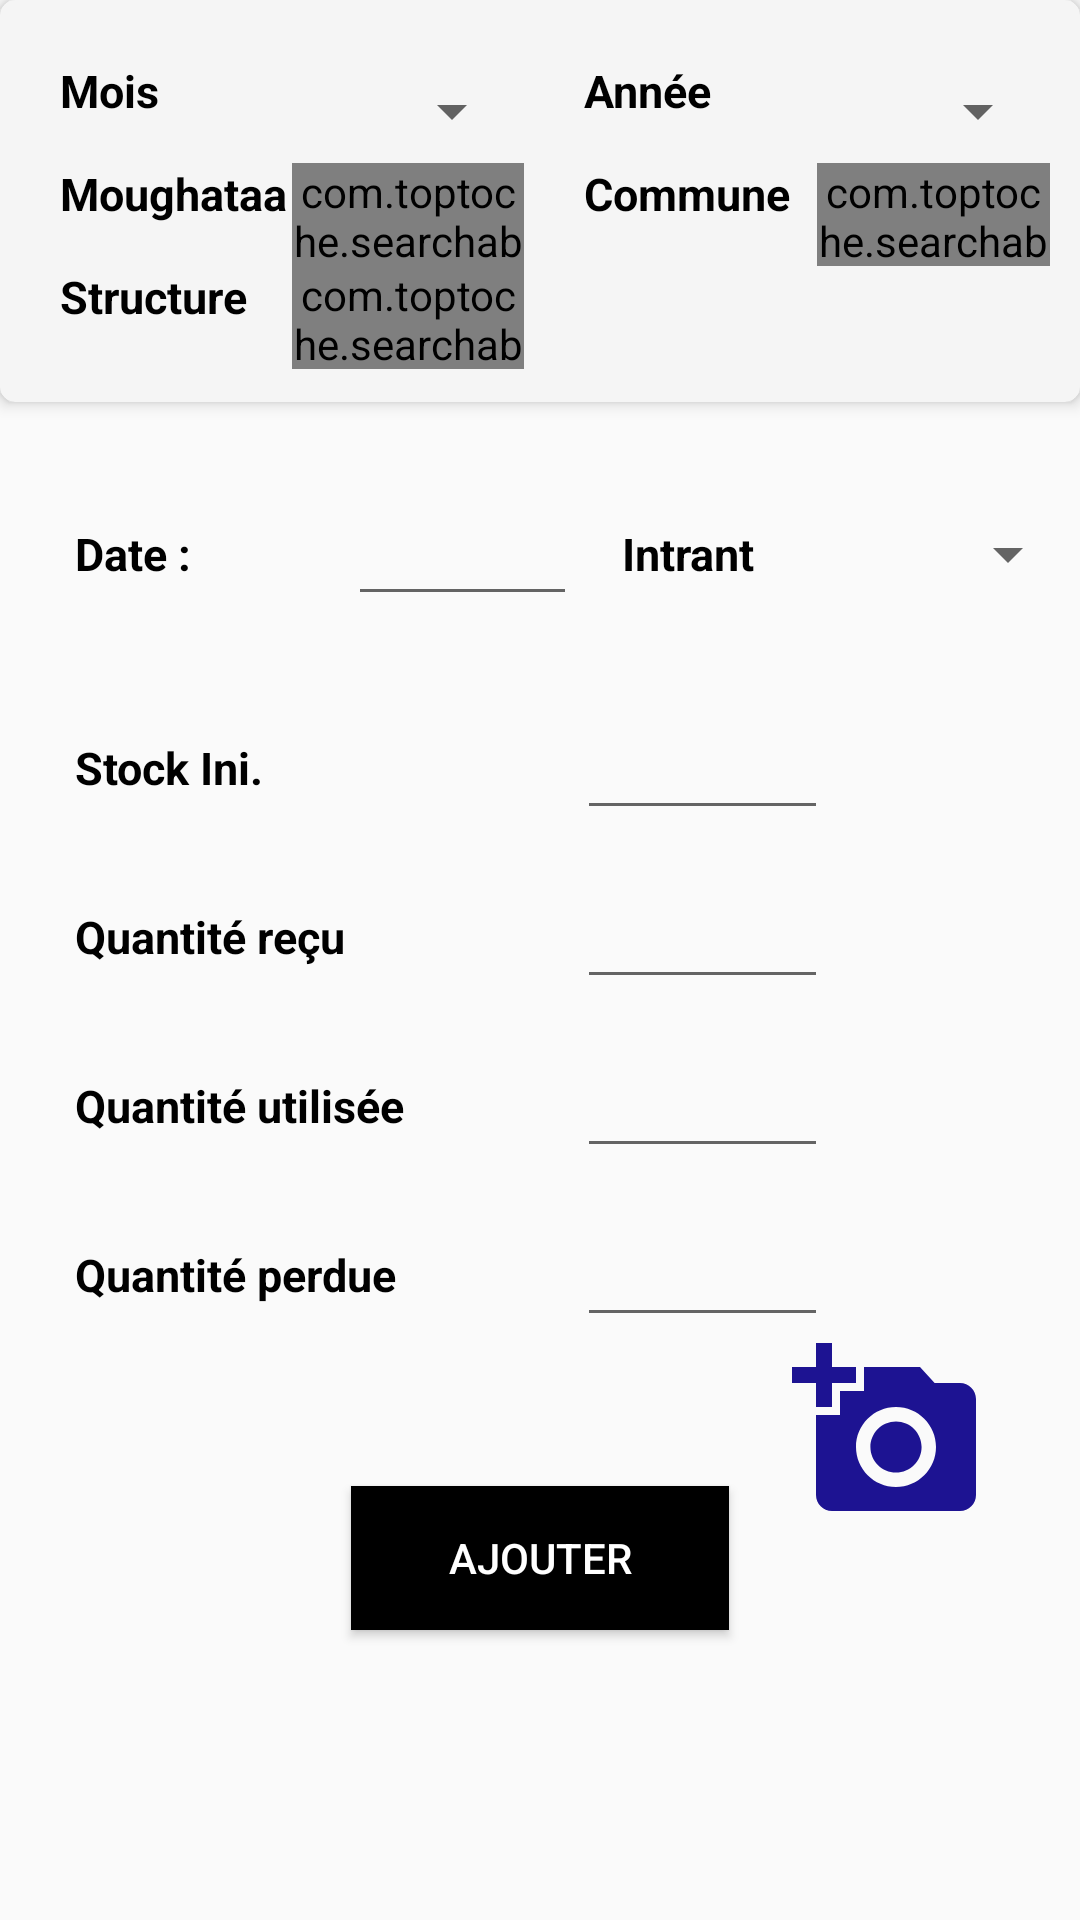

Icon bounding boxes for this 1080 x 1920 phone screenshot, format (x1, y1, x2, y2):
add photo: (792, 1343, 976, 1511)
